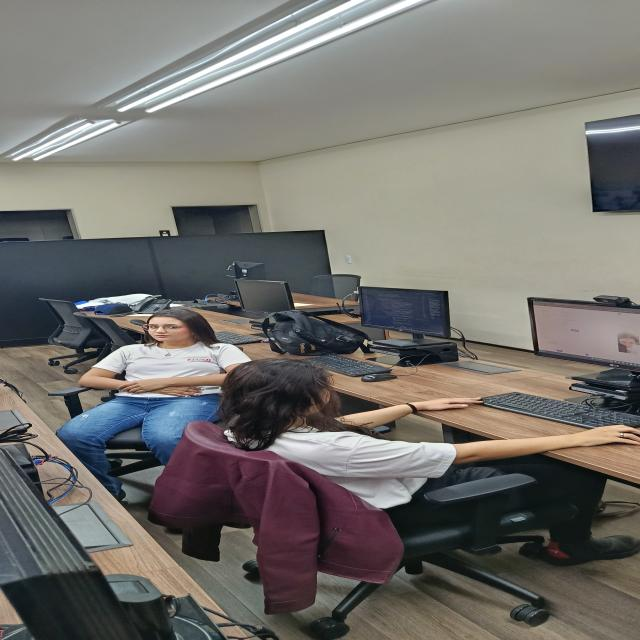sem_oculos: (142, 325, 187, 331)
